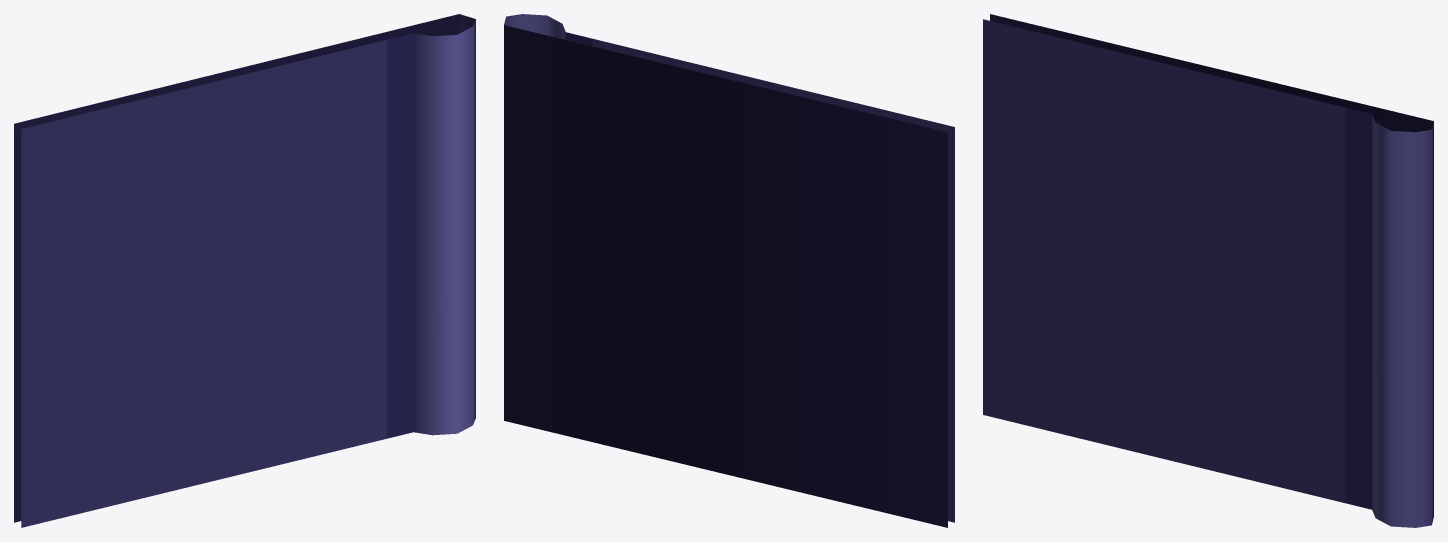
File: carpet_middle_side.fbx
The picture shows the model from 3 angles, left to right: view 1: azimuth 30°, elevation 25°; view 2: azimuth 150°, elevation 25°; view 3: azimuth 330°, elevation 25°; orthographic projection.
Parts seen in each view (by area): view 1: carpet_middle_side; view 2: carpet_middle_side; view 3: carpet_middle_side.
Part boxes in pixels (bbox=[...]): carpet_middle_side: bbox=[14, 14, 475, 527]; carpet_middle_side: bbox=[504, 14, 954, 527]; carpet_middle_side: bbox=[983, 14, 1433, 527].
Size of the model in its own units: 2.38 by 2 by 0.1891.
